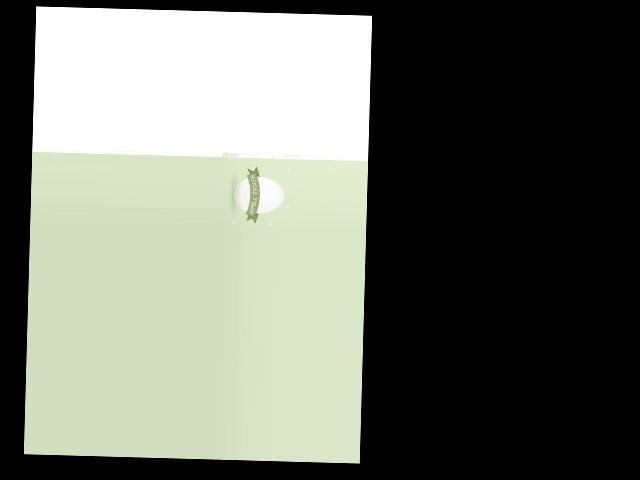egg: (233, 175, 284, 213)
